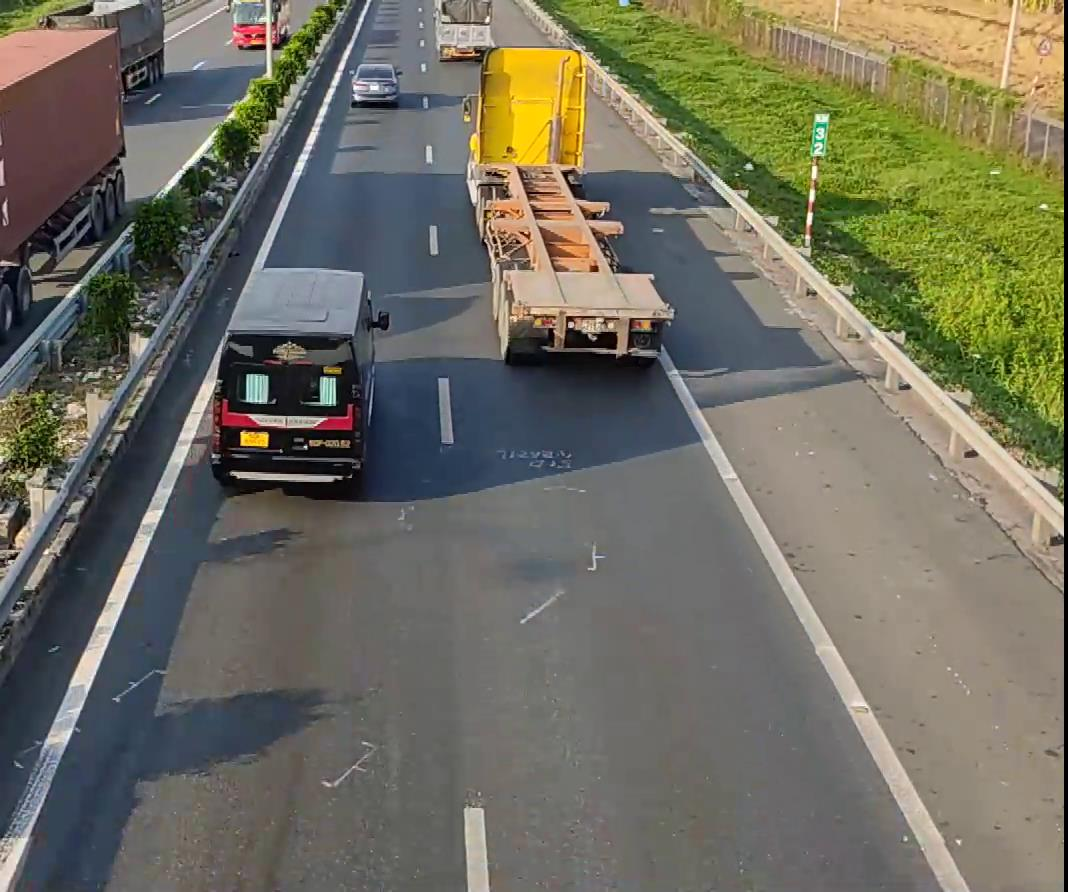car: (206, 266, 386, 489)
container: (464, 39, 673, 362), (0, 3, 132, 354)
